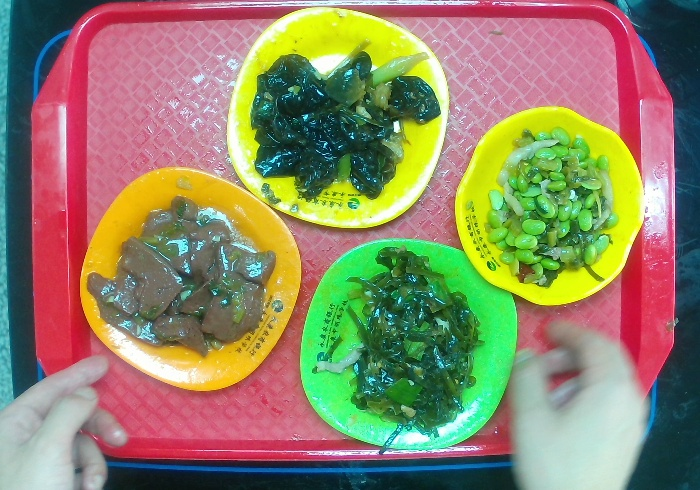YKMZ-Huang_Se_Ao_Bian_Wan: (450, 103, 649, 309)
YKMZ-Huang_Se_Fang_Die: (223, 6, 449, 231)
YKMZ-Ju_Se_Fang_Die: (77, 163, 304, 396)
YKMZ-Lv_Se_Fang_Die: (296, 236, 519, 457)
